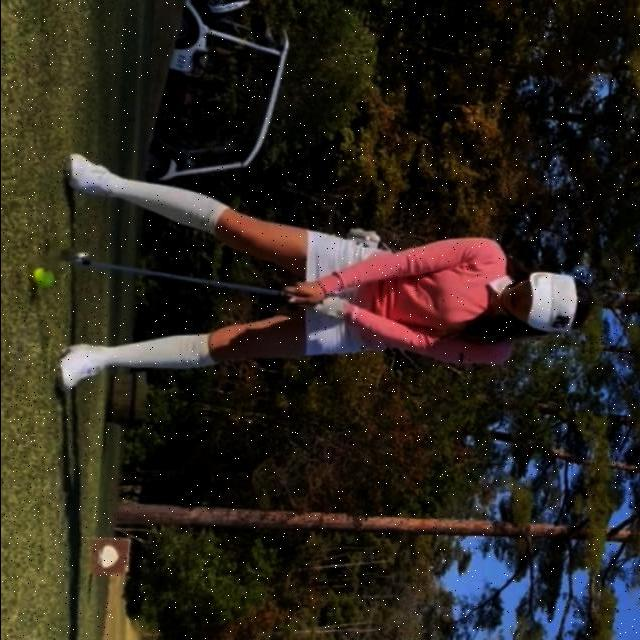golf ball: (32, 268, 53, 289)
golf club-handle: (58, 249, 290, 300)
golf club-head: (59, 249, 88, 264)
